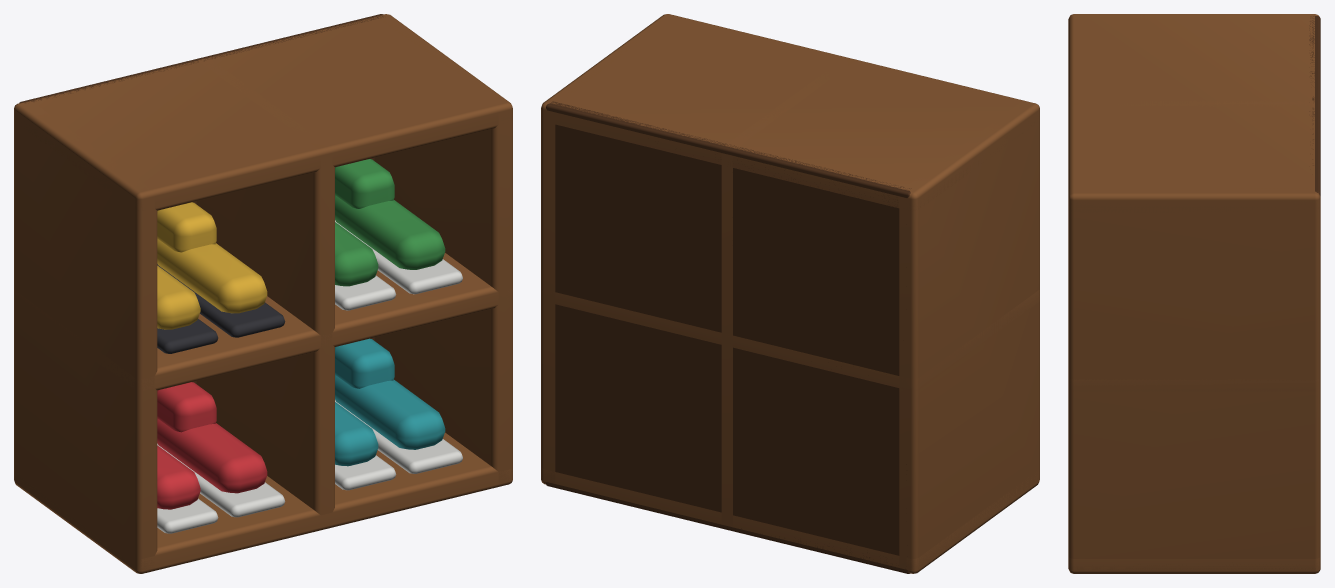
The model's file is furn_shoe_rack.glb.
The picture shows the model from 3 angles, left to right: view 1: azimuth 30°, elevation 25°; view 2: azimuth 150°, elevation 25°; view 3: azimuth 270°, elevation 25°; orthographic projection.
Parts seen in each view (by area): view 1: furn_shoe_rack_main; view 2: furn_shoe_rack_main; view 3: furn_shoe_rack_main.
Boxes of the visible parts, x1,y1,x2,y2 form: furn_shoe_rack_main: (14, 14, 512, 573); furn_shoe_rack_main: (541, 14, 1039, 573); furn_shoe_rack_main: (1068, 14, 1320, 573).
Size of the model in its own units: 0.62 by 0.6 by 0.36.
